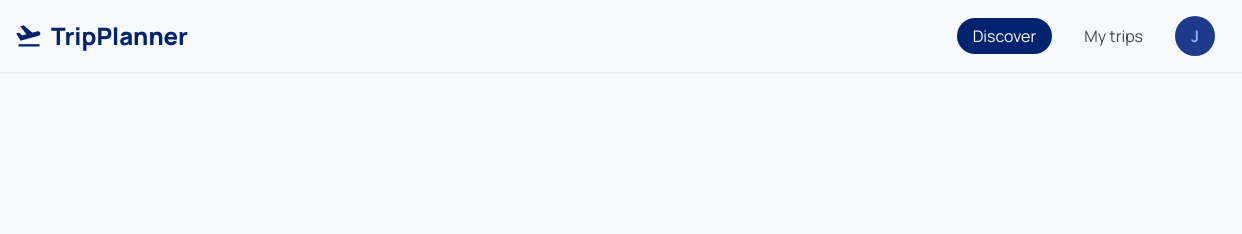
Test: AppHeader › when logged in › closes the account menu on Escape
The width and height of the screenshot is (1242, 234).
Step 1. Click the button named "Account menu" → click(1195, 36), box [1175,16,1215,56]
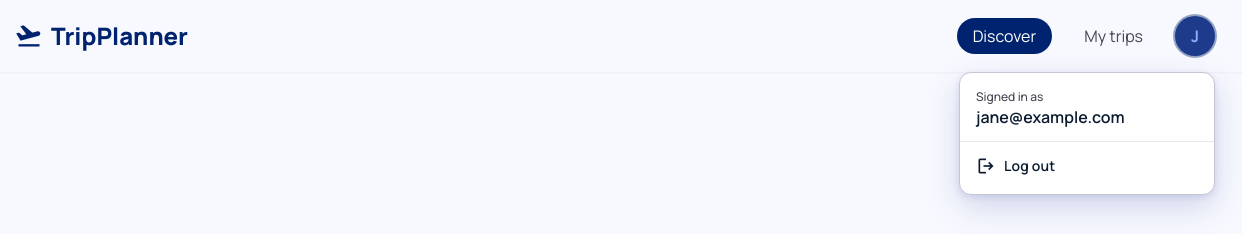
Result: the button named "Account menu" is expanded at [1175,16,1215,56]
Step 2. Press Escape
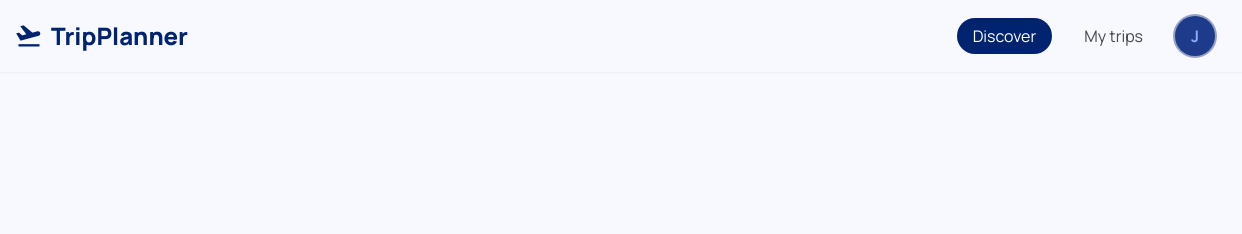
Result: the button "Log out" is gone
